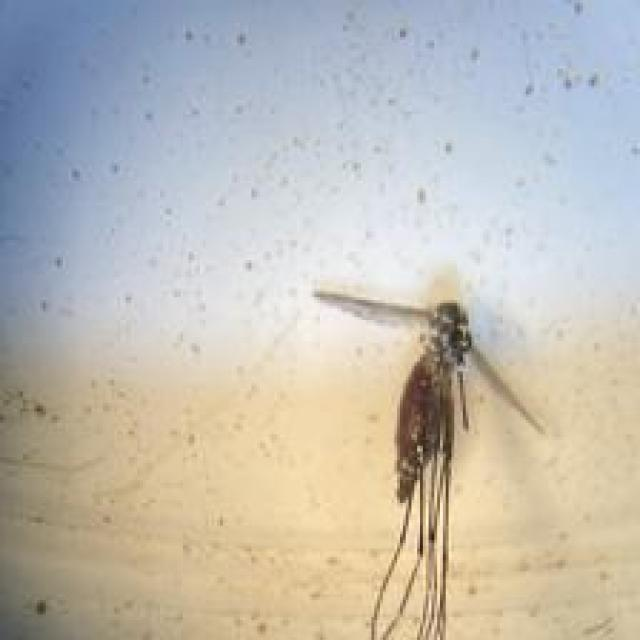Aedes albopictus: (310, 277, 547, 640)
